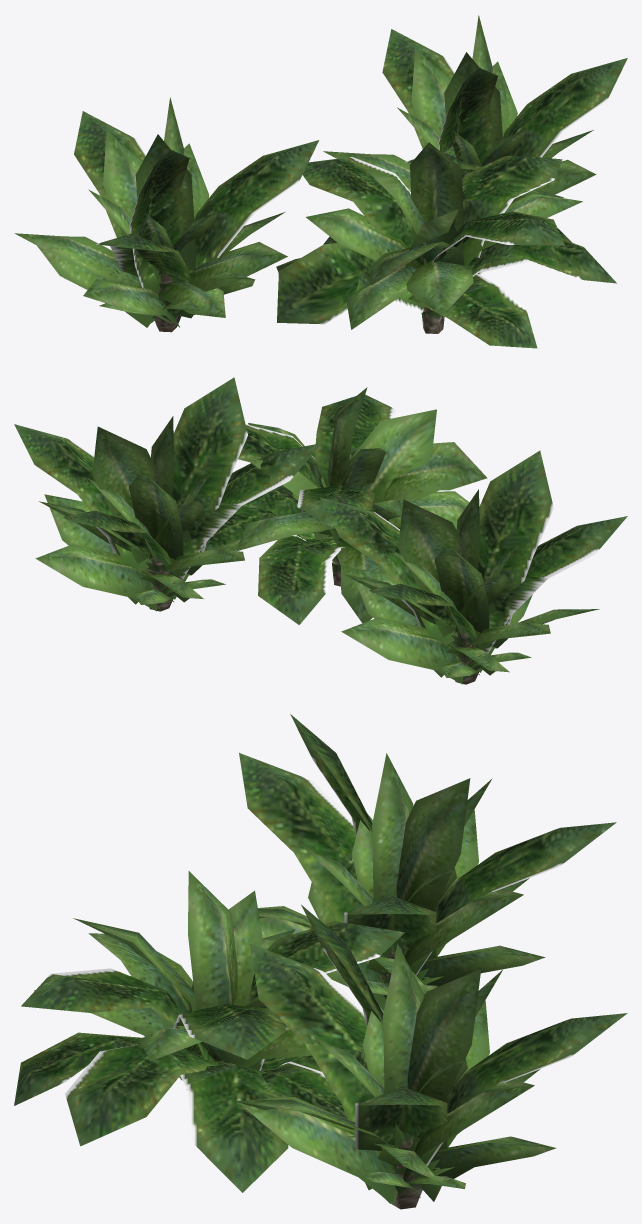
The model's file is palm1_LOD.fbx.
3 renders of one model, top to bottom at view 1: azimuth 30°, elevation 25°; view 2: azimuth 150°, elevation 25°; view 3: azimuth 270°, elevation 25°, orthographic. The views are drawn at different scales.
Visible parts, largest first — view 1: polySurface339; view 2: polySurface339; view 3: polySurface339.
Boxes of the visible parts, box(x1,y1,x2,y2) form: polySurface339: box(14, 15, 627, 348); polySurface339: box(14, 377, 627, 684); polySurface339: box(14, 714, 627, 1209).
Bounding box in the file's own units: 37.73 × 13.57 × 26.95.
Materials: 1 (1 with a texture image).
